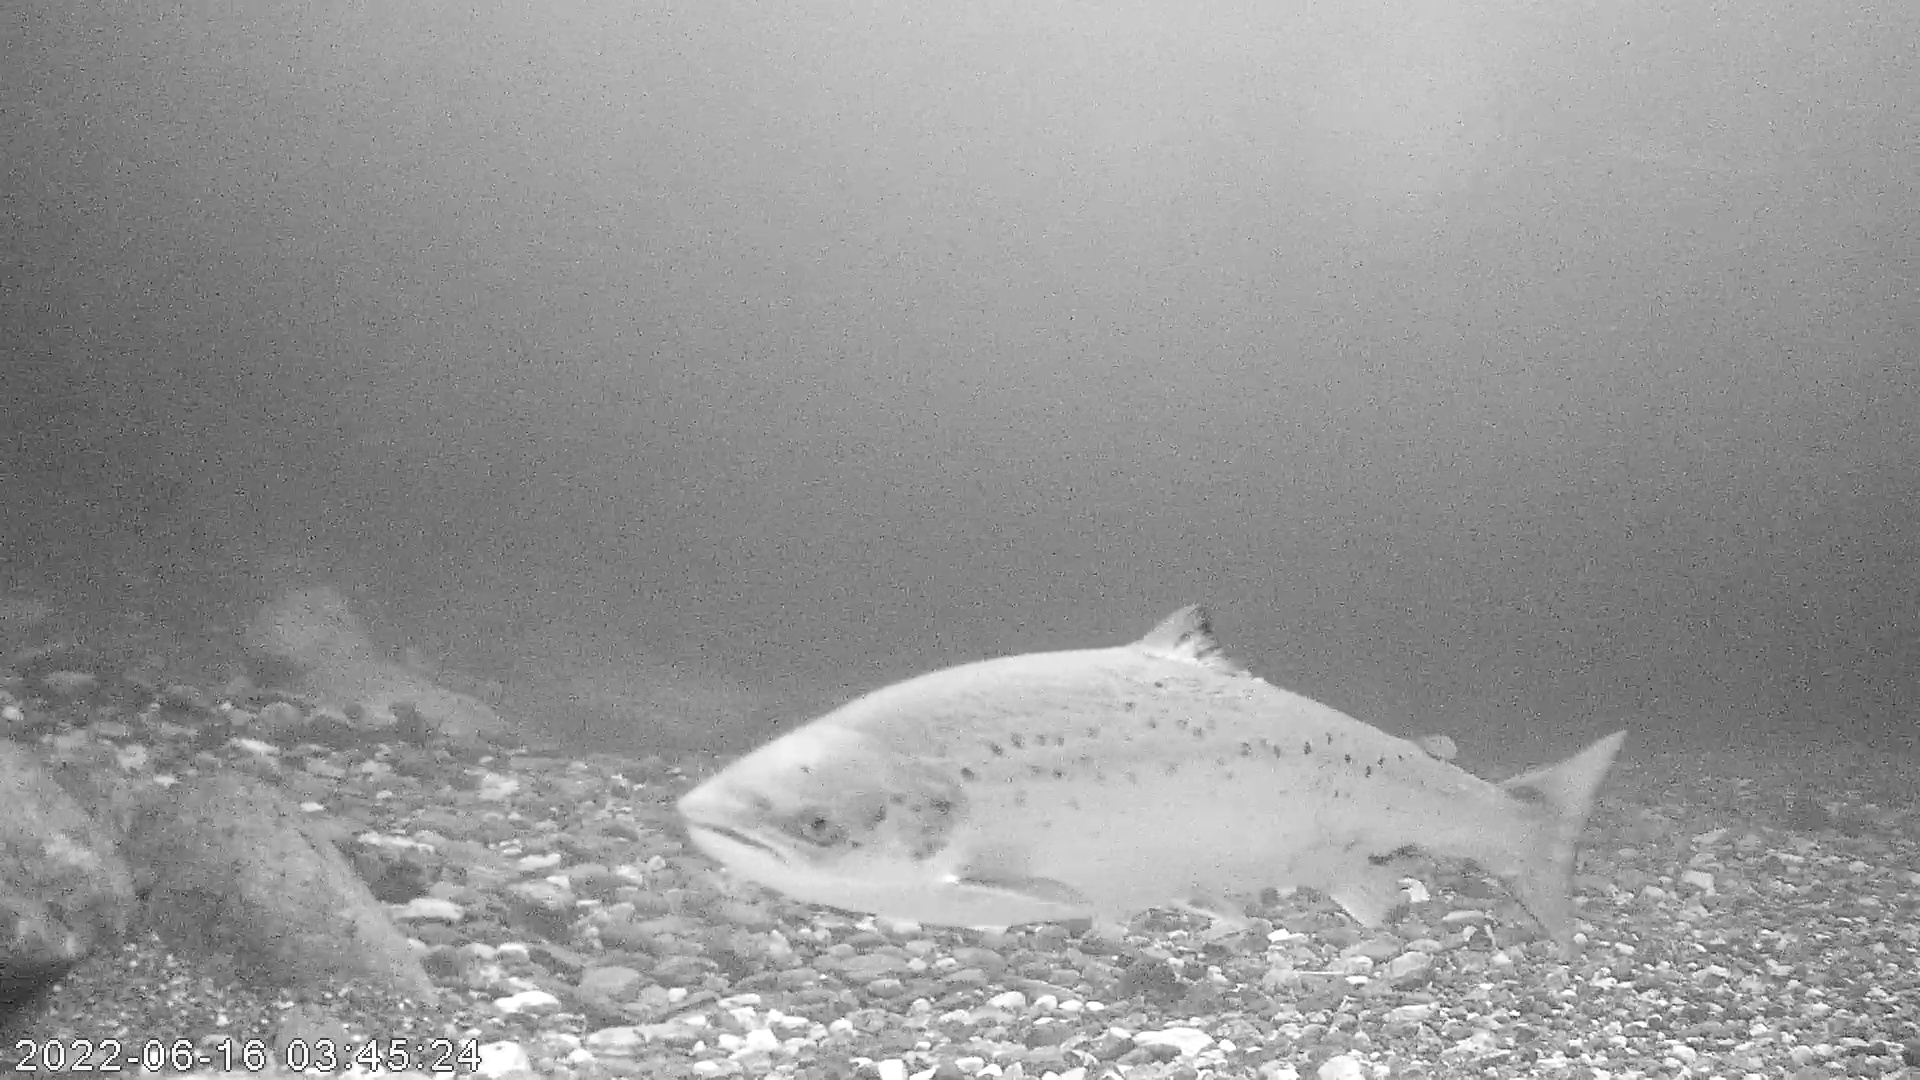salmon: (679, 599, 1629, 945)
